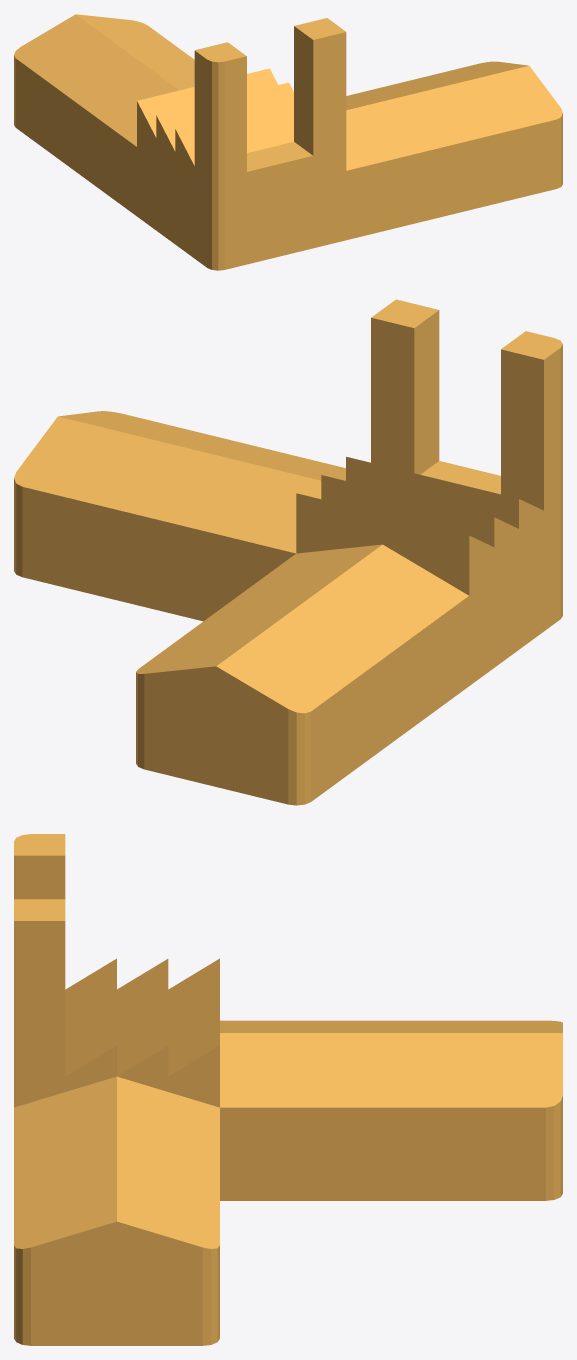
3 renders of one model, top to bottom at view 1: azimuth 30°, elevation 25°; view 2: azimuth 150°, elevation 25°; view 3: azimuth 270°, elevation 25°, orthographic. The views are drawn at different scales.
Parts seen in each view (by area): view 1: Cube; view 2: Cube; view 3: Cube.
Part boxes in pixels (x1=…): Cube: x1=14, y1=14, x2=562, y2=270; Cube: x1=14, y1=299, x2=562, y2=805; Cube: x1=14, y1=834, x2=562, y2=1345.
Size of the model in its own units: 160 by 90 by 160.
